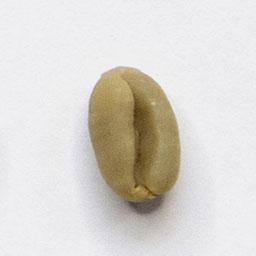peaberry: (84, 62, 185, 206)
